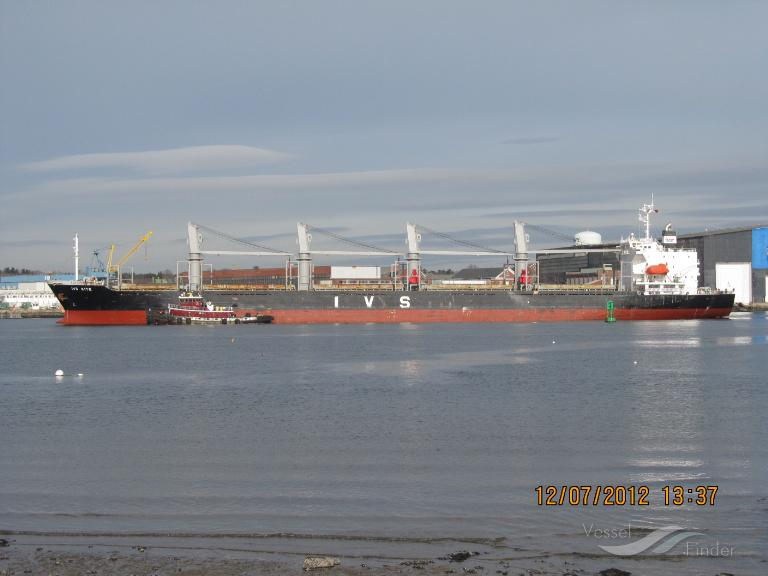OCR: (331, 290, 415, 315)
